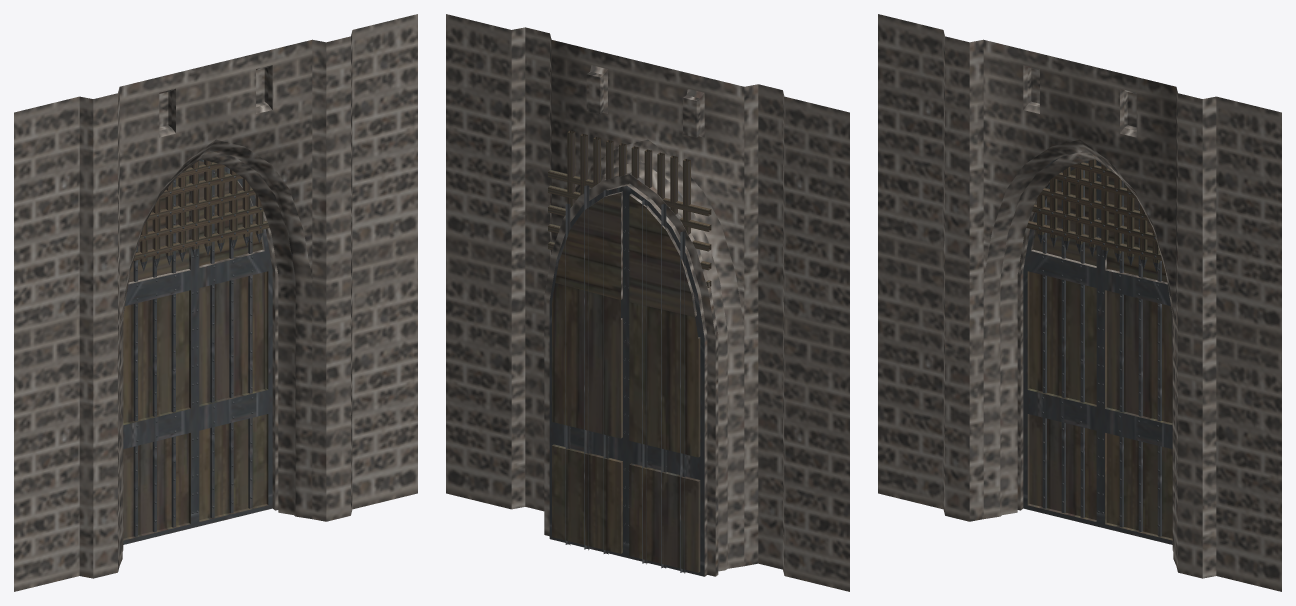
Rendered from Door.fbx.
3 renders of one model, left to right at view 1: azimuth 30°, elevation 25°; view 2: azimuth 150°, elevation 25°; view 3: azimuth 330°, elevation 25°, orthographic.
Parts seen in each view (by area): view 1: Door; view 2: Door; view 3: Door.
Part boxes in pixels (x1,y1,x2,y2): Door: [14, 14, 417, 591]; Door: [446, 14, 849, 591]; Door: [878, 14, 1281, 591].
Size of the model in its own units: 1752 by 1988 by 220.
